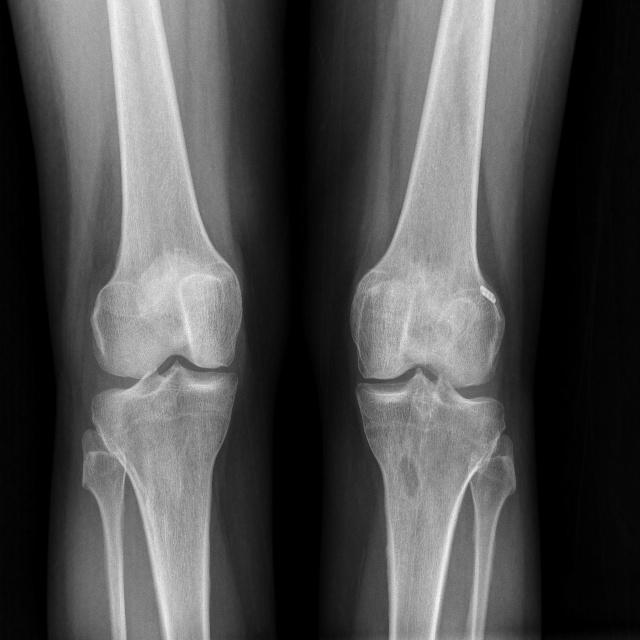Knee: (349, 320, 507, 444), (90, 310, 241, 439)
